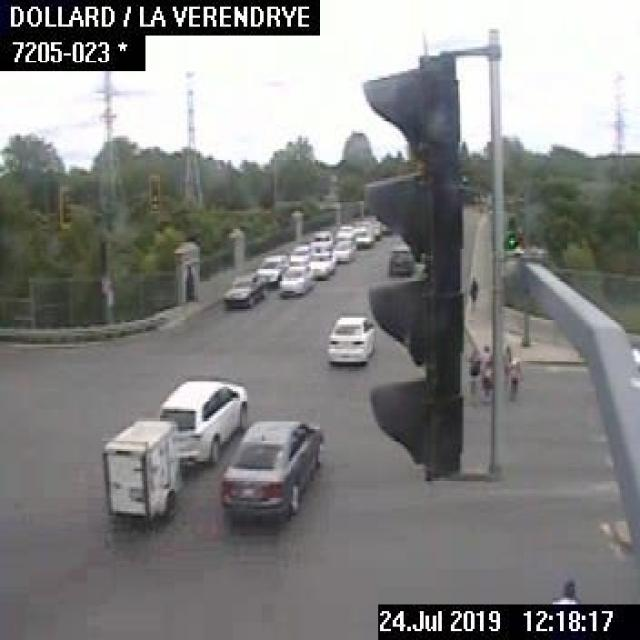pedestrian: (549, 574, 579, 602), (466, 340, 480, 398), (480, 343, 494, 399), (509, 347, 520, 401), (499, 341, 510, 390), (467, 276, 478, 306)
vehicle: (102, 374, 246, 518), (220, 415, 320, 528), (326, 311, 374, 362), (220, 268, 267, 307), (277, 262, 313, 297), (387, 244, 413, 274), (258, 253, 287, 279), (306, 250, 333, 277), (332, 238, 353, 262), (286, 244, 311, 264), (352, 225, 372, 247), (310, 228, 330, 250), (334, 223, 352, 237)
